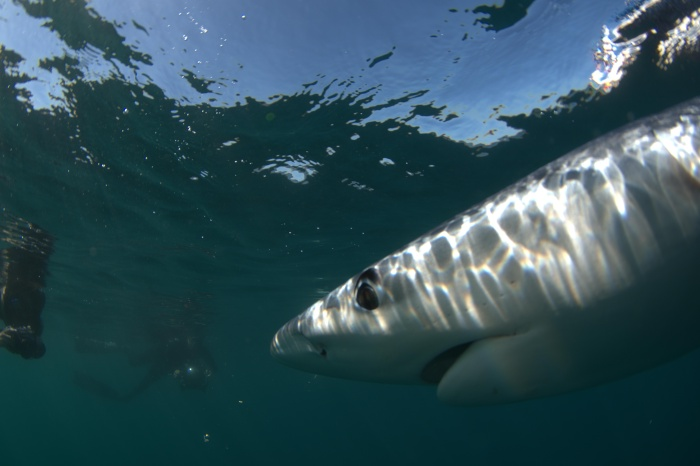Azul: (231, 72, 700, 412)
